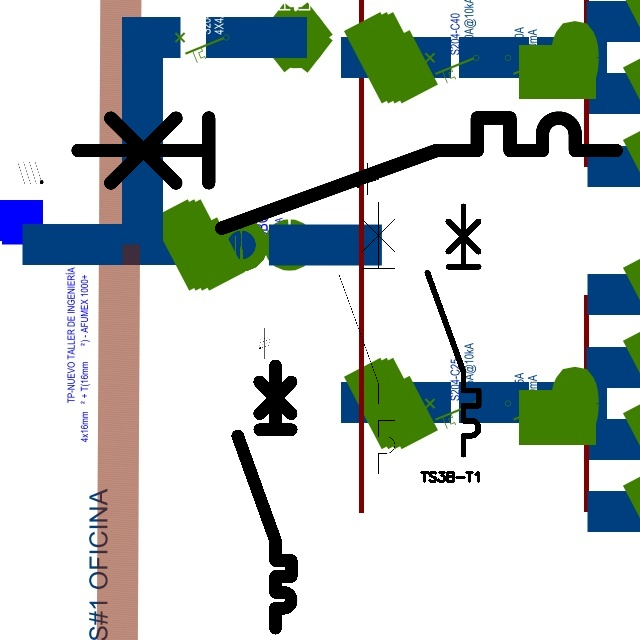interruptor_termomagnetico: (64, 104, 630, 242), (332, 195, 402, 481), (231, 359, 298, 635), (421, 200, 485, 461)
